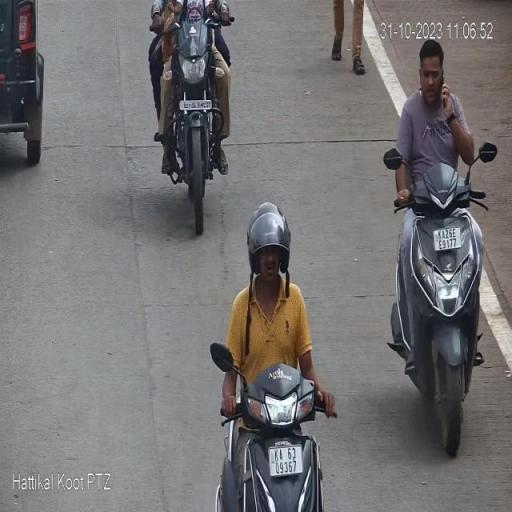using mobile: (440, 62, 450, 113)
